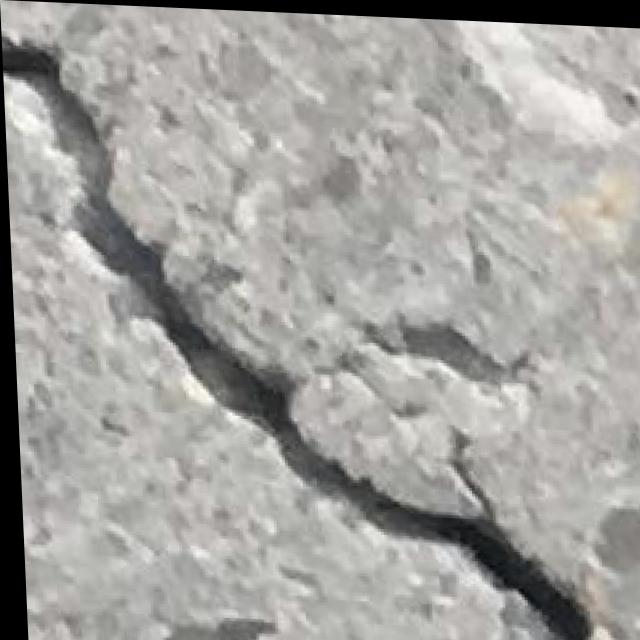Crack: (1, 28, 612, 640)
